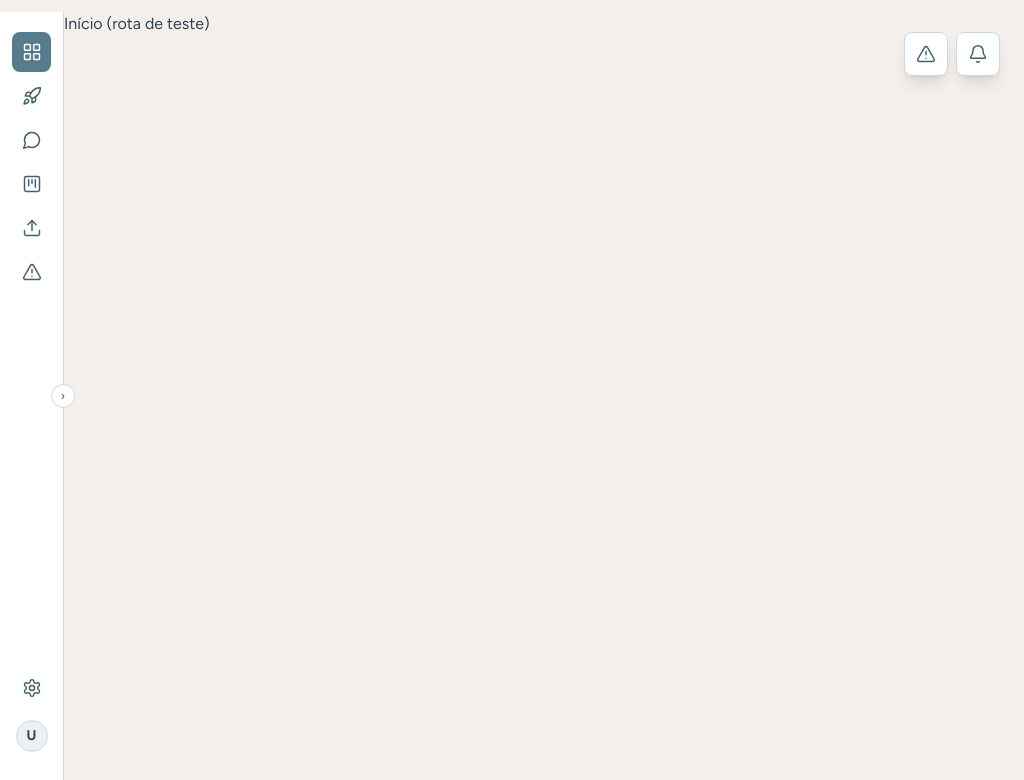
it: ControleLigacoesShell - flyout de Configurações › com admin, ao clicar em Configurações o flyout mostra os dois subitens (Usuários e Números Remetentes)
Click the button named "configurações". click: (32, 688)
box: [12,668,51,708]
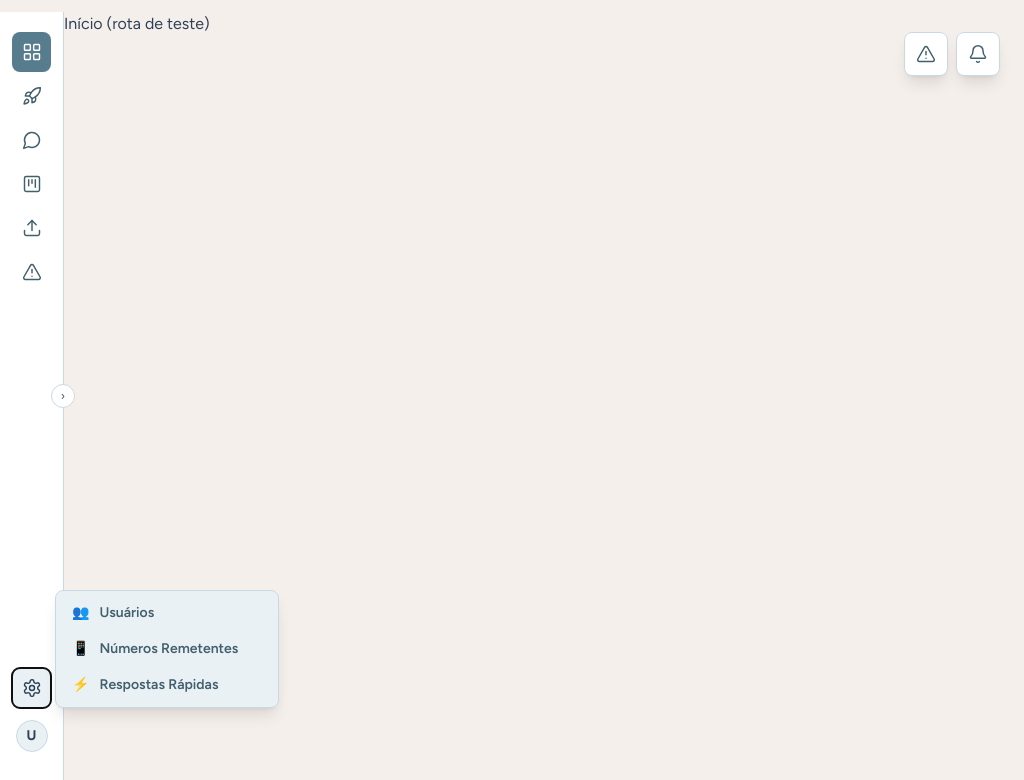
Expected: the link "👥 Usuários" is shown, [72,604,154,621]
Expected: the link "📱 Números Remetentes" is shown, [72,640,238,657]
